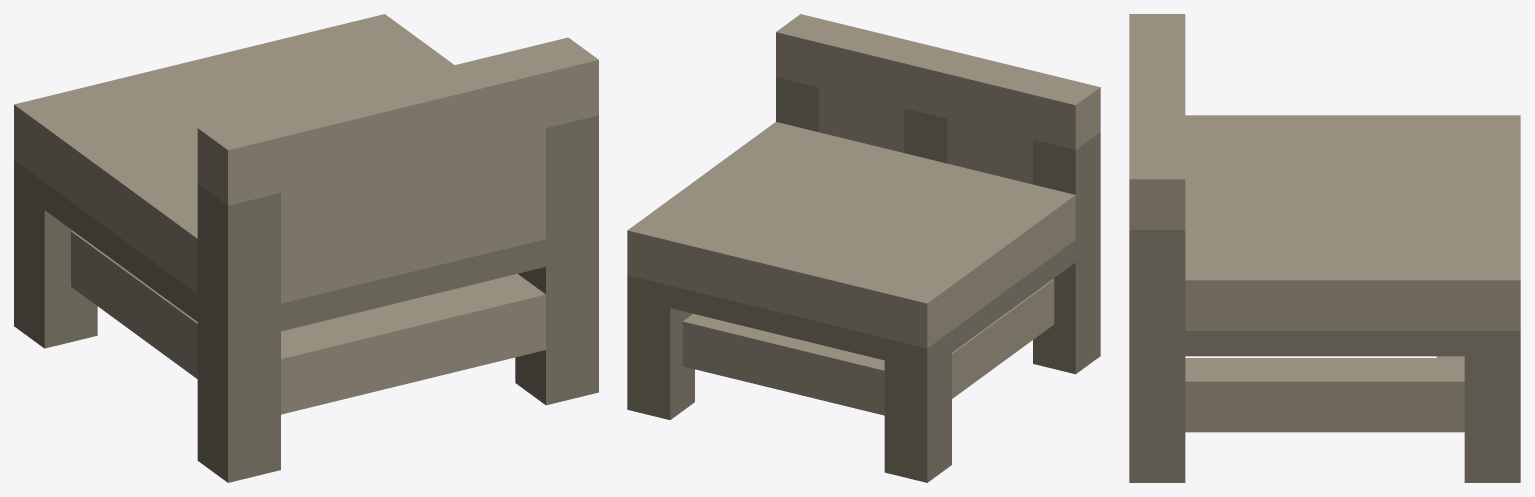
Rendered from banco_arqueria_caza_01.glb.
3 views of the same model, side by side, from view 1: azimuth 30°, elevation 25°; view 2: azimuth 150°, elevation 25°; view 3: azimuth 270°, elevation 25° (orthographic). The views are drawn at different scales.
Visible parts, largest first — view 1: banco_arqueria_caza; view 2: banco_arqueria_caza; view 3: banco_arqueria_caza.
Boxes of the visible parts, left/top/right/bottom form: banco_arqueria_caza: left=14, top=14, right=598, bottom=482; banco_arqueria_caza: left=627, top=14, right=1100, bottom=482; banco_arqueria_caza: left=1129, top=14, right=1520, bottom=482.
Size of the model in its own units: 1 by 0.8571 by 1.
